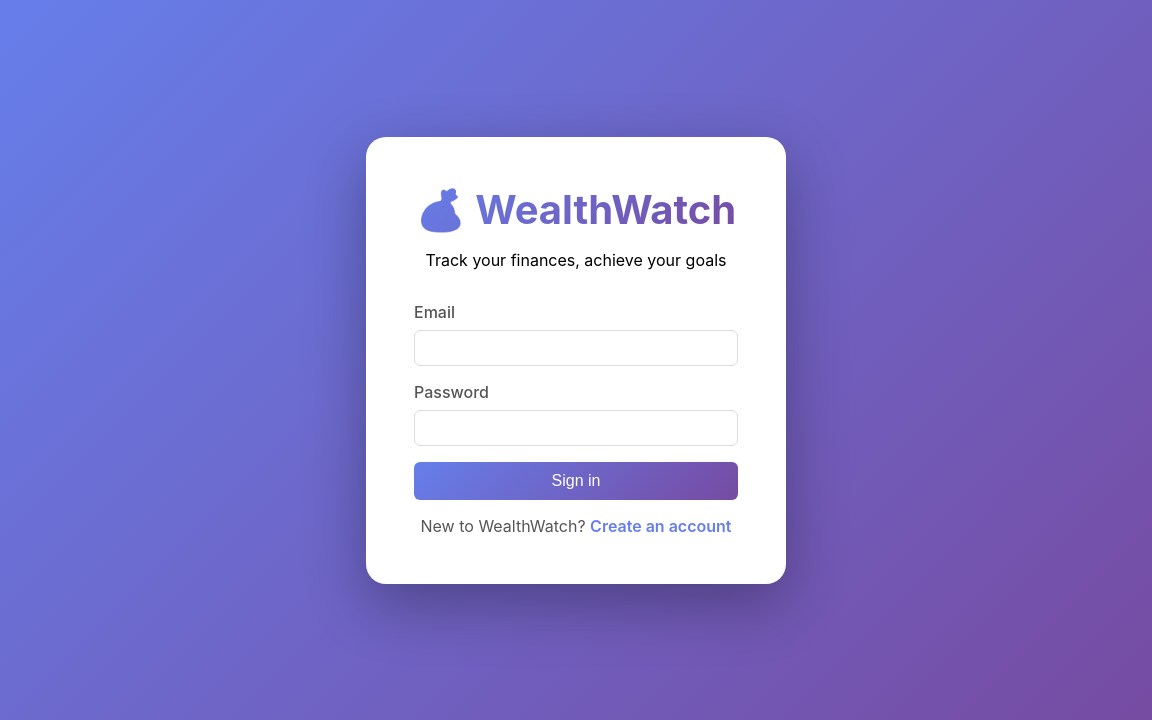
signing in with email and password opens the dashboard
This screenshot has width=1152, height=720.
In the field labelled "Email": (576, 348) [414, 330, 738, 366], type "alice@example.com"
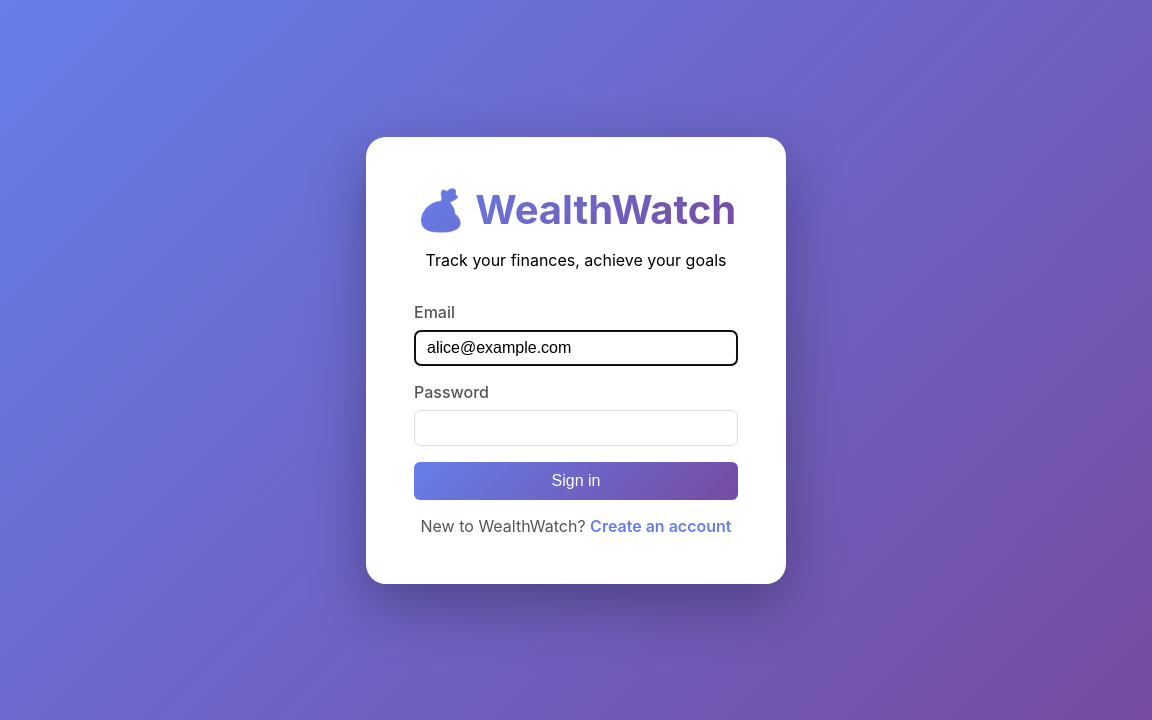
In the password field labelled "Password": (576, 428) [414, 410, 738, 446], type "correct horse"
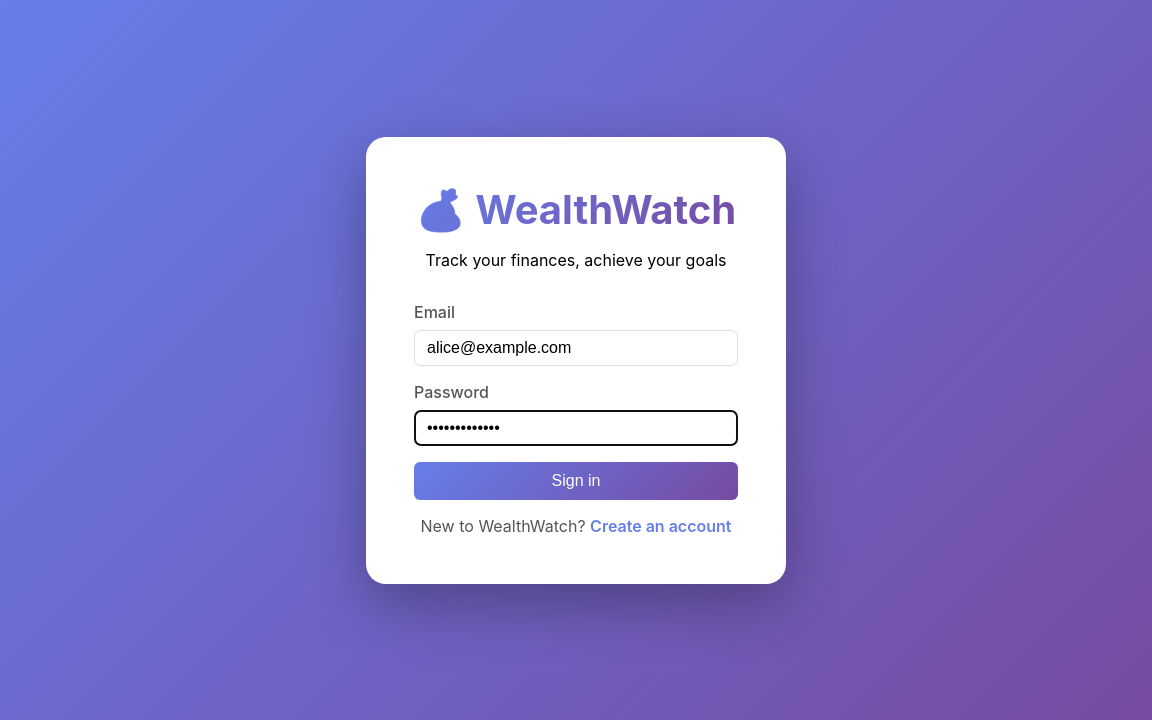
Click the button "Sign in": (576, 480) [414, 462, 738, 500]
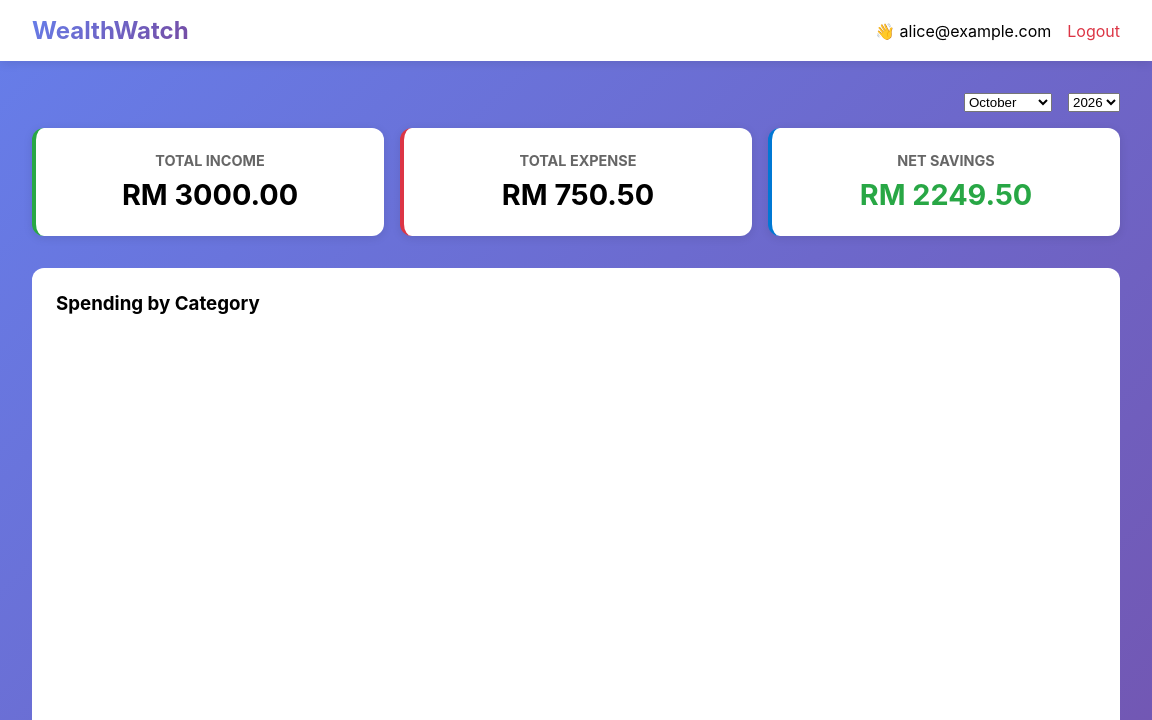
Check: the text "RM 3000.00" is shown, box [122, 177, 298, 212]
